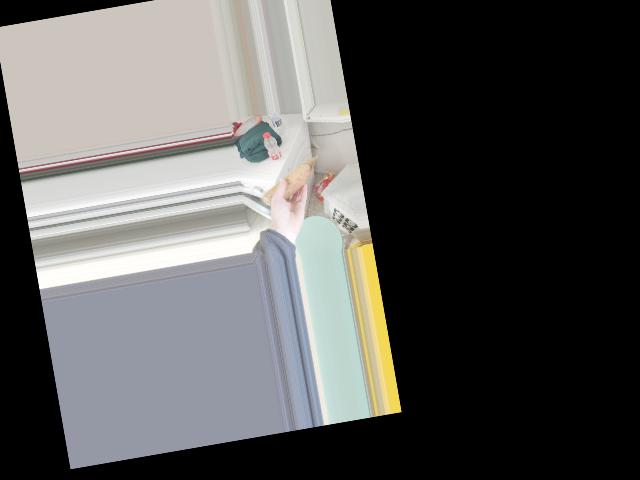sweet_potato: (271, 162, 309, 200)
